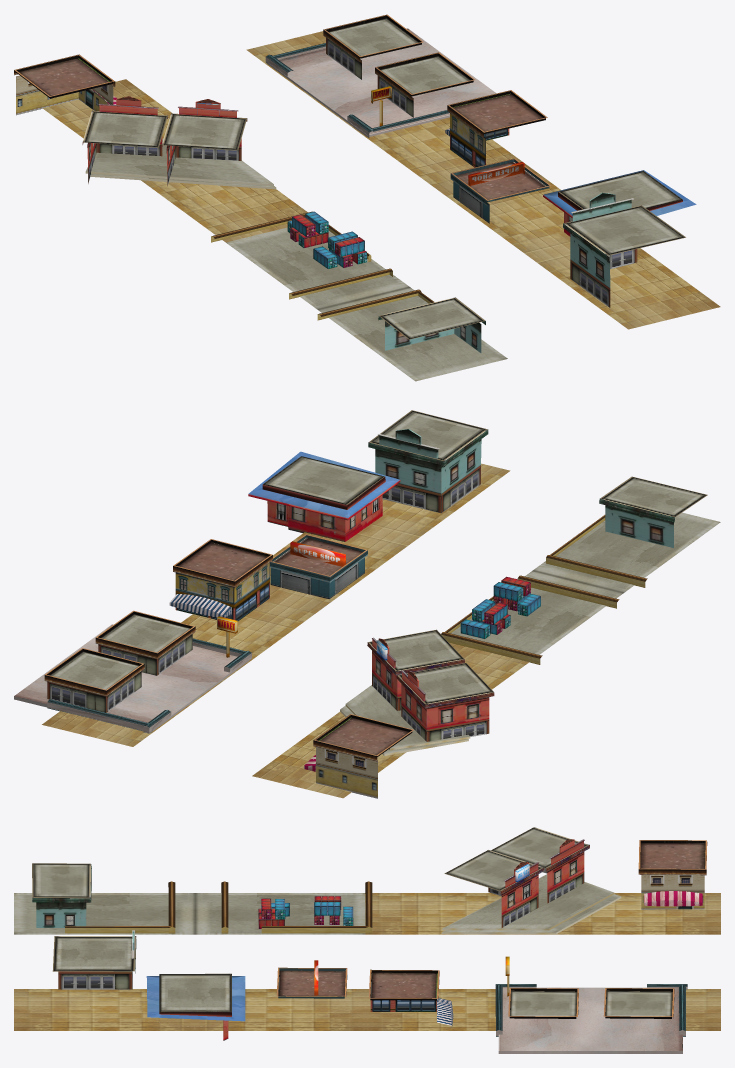
File: us_smalltown_mid_02.fbx
3 views of the same model, one above another, from view 1: azimuth 30°, elevation 25°; view 2: azimuth 150°, elevation 25°; view 3: azimuth 270°, elevation 25° (orthographic). The views are drawn at different scales.
Parts seen in each view (by area): view 1: us_smalltown_props2, us_smalltown_mid2; view 2: us_smalltown_props2, us_smalltown_mid2; view 3: us_smalltown_props2, us_smalltown_mid2.
Boxes of the visible parts, <box> form: us_smalltown_props2: <box>14,14,720,381</box>; us_smalltown_mid2: <box>287,211,366,268</box>; us_smalltown_props2: <box>14,410,720,798</box>; us_smalltown_mid2: <box>460,576,540,638</box>; us_smalltown_props2: <box>14,827,720,1053</box>; us_smalltown_mid2: <box>258,896,353,928</box>.
Size of the model in its own units: 6131 by 1180 by 10000.
